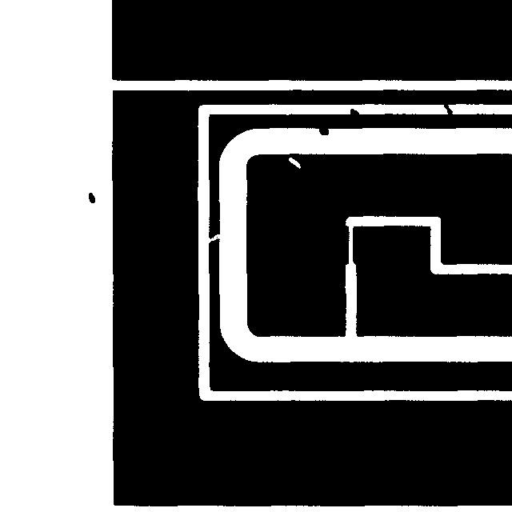copper: (81, 185, 102, 210)
open: (197, 226, 230, 250)
pin-hole: (281, 150, 308, 176)
short: (436, 94, 461, 124)
spur: (310, 116, 336, 142), (342, 101, 366, 126)
